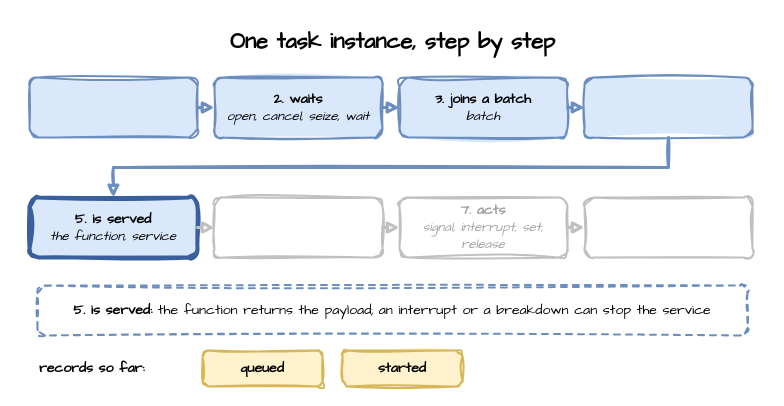
Some shapes in this 784 by 406 pixel diagram are drawn without their labels. The shapes that lost their labels are listed below. From the top down, each one's centre as x and y in pixels, then its label:
point 113,107: 1. arrives balk
point 668,107: 4. takes its units resource, get
point 298,227: 6. ends put, fail
point 668,227: 8. goes on next, on_fail
